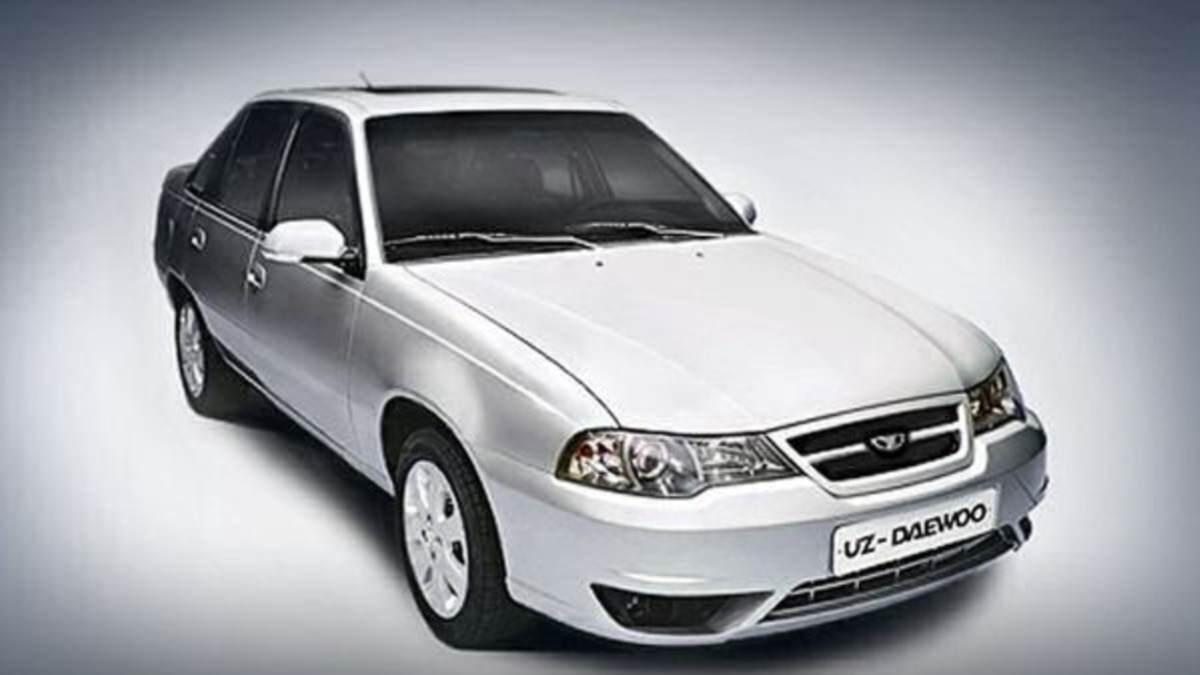car: (151, 76, 1055, 655)
plate: (829, 479, 1005, 580)
